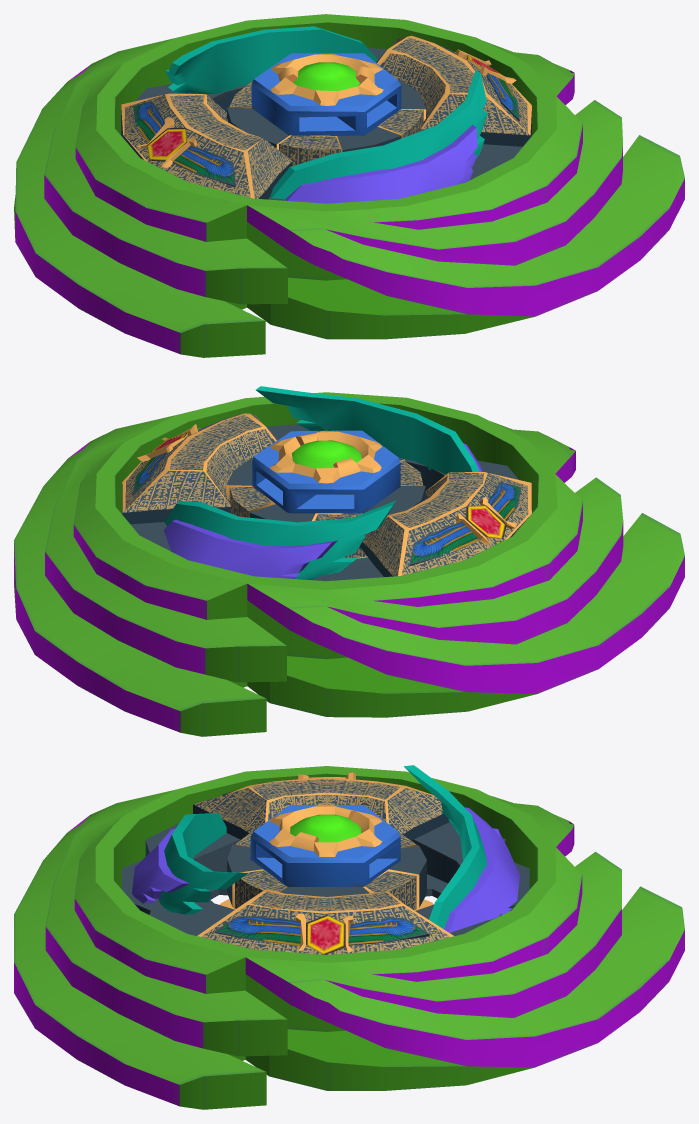
File: Com3d_BbAI_condl2_N000out.obj
3 renders of one model, top to bottom at view 1: azimuth 30°, elevation 25°; view 2: azimuth 150°, elevation 25°; view 3: azimuth 270°, elevation 25°, orthographic.
Parts seen in each view (by area): view 1: Com3d_BbAI_condl2_N000out; view 2: Com3d_BbAI_condl2_N000out; view 3: Com3d_BbAI_condl2_N000out.
Part boxes in pixels (box(x1,y1,x2,y2)): Com3d_BbAI_condl2_N000out: box(14, 14, 684, 357); Com3d_BbAI_condl2_N000out: box(14, 386, 684, 736); Com3d_BbAI_condl2_N000out: box(14, 765, 684, 1109).
Bounding box in the file's own units: 31.47 × 9.12 × 31.84.
Materials: 1 (1 with a texture image).
